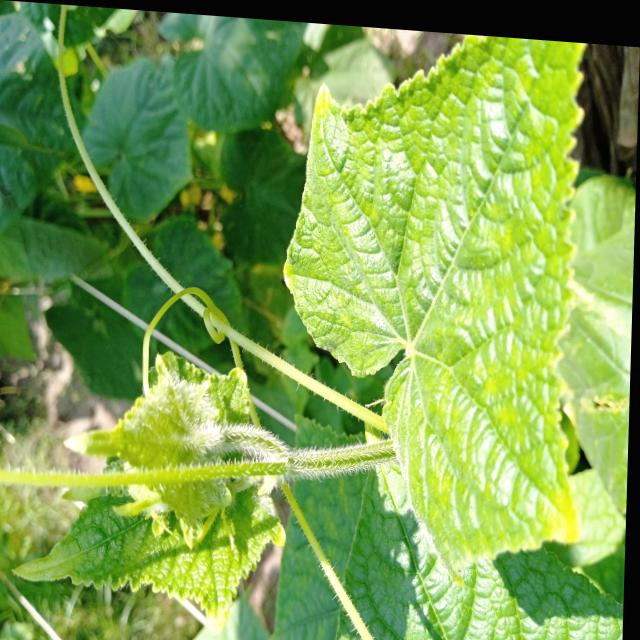Fresh-Leaf: (278, 37, 587, 588), (13, 353, 287, 640)
